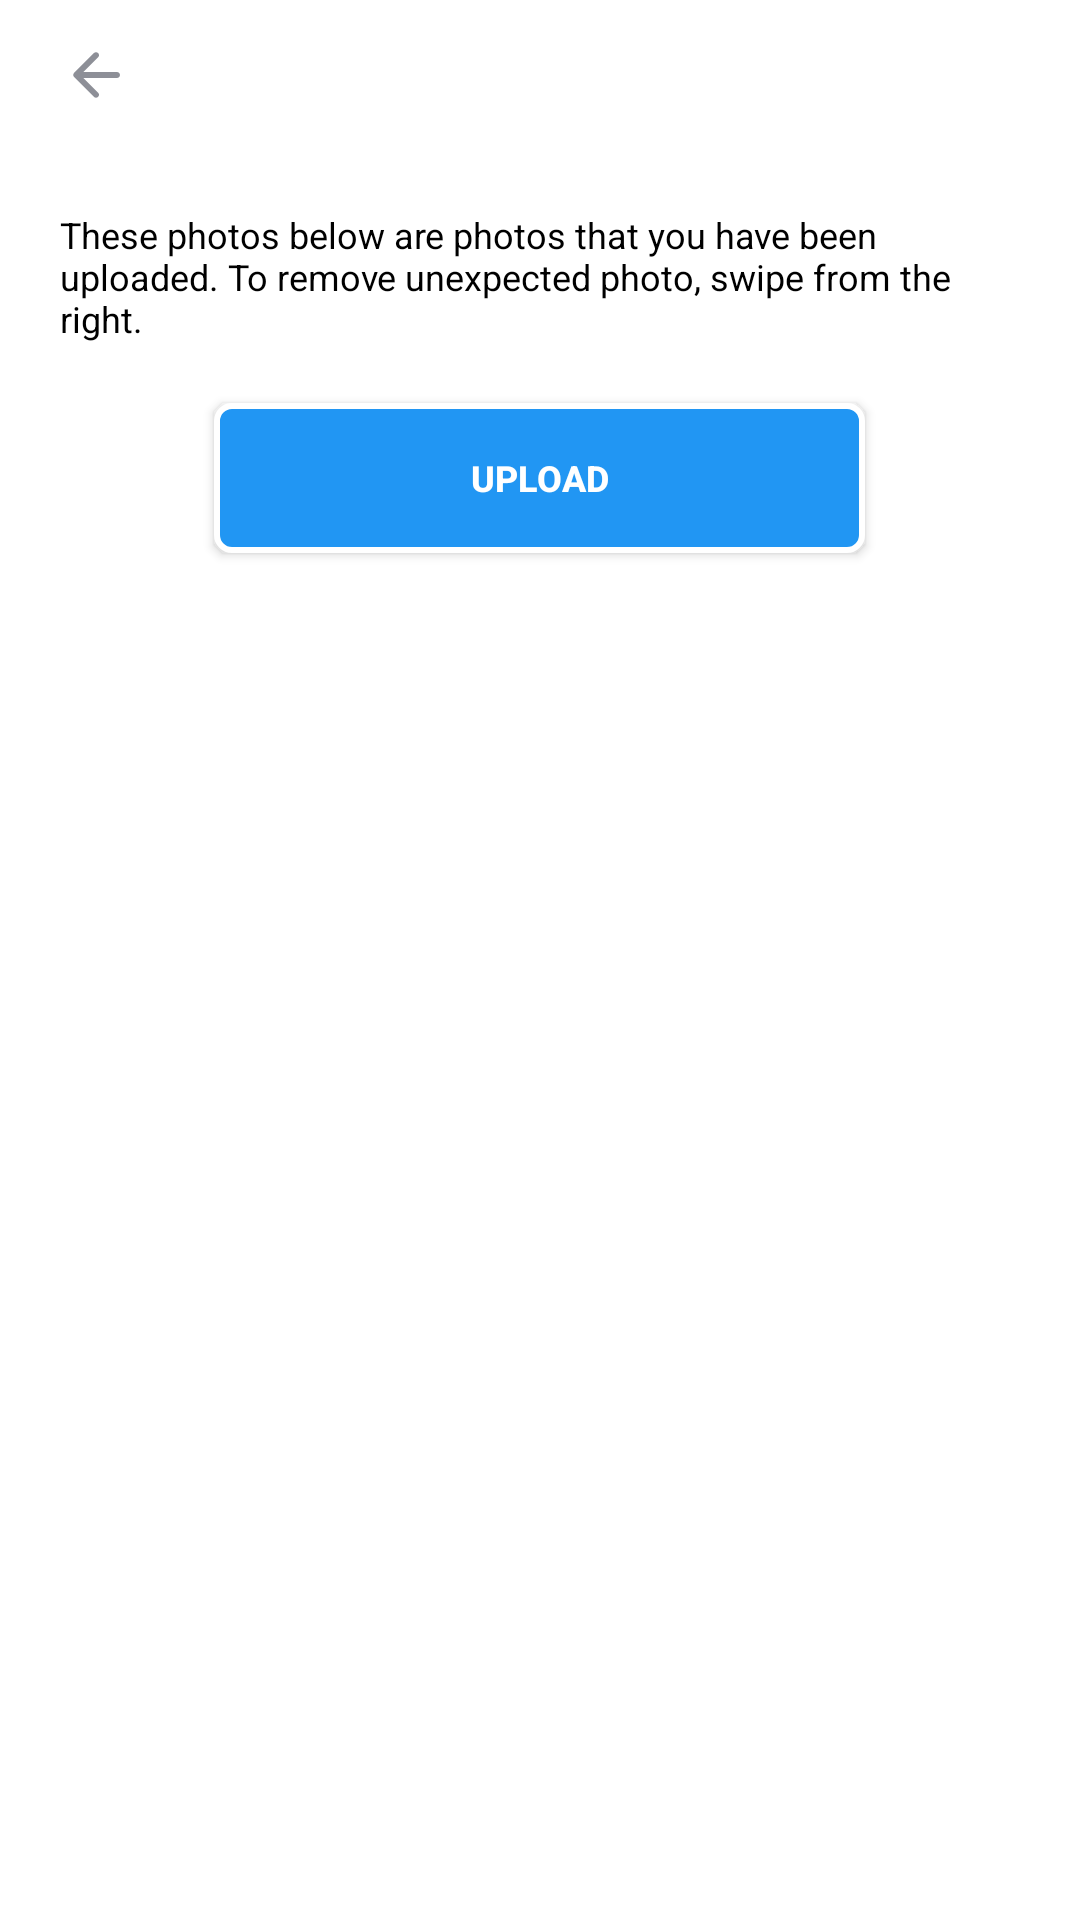

Screen size 1080*1920. Icon name, then its box in pixels as {"left": x1, "top": y1, "right": x2, "bottom": y2}:
arrow back: {"left": 73, "top": 52, "right": 120, "bottom": 98}
